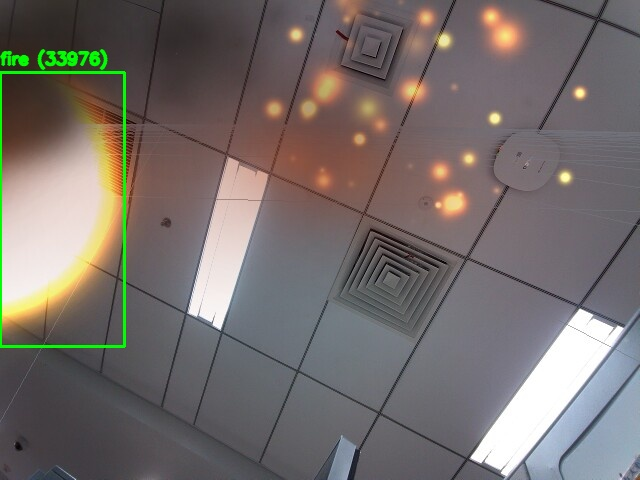fire: (0, 72, 124, 346)
